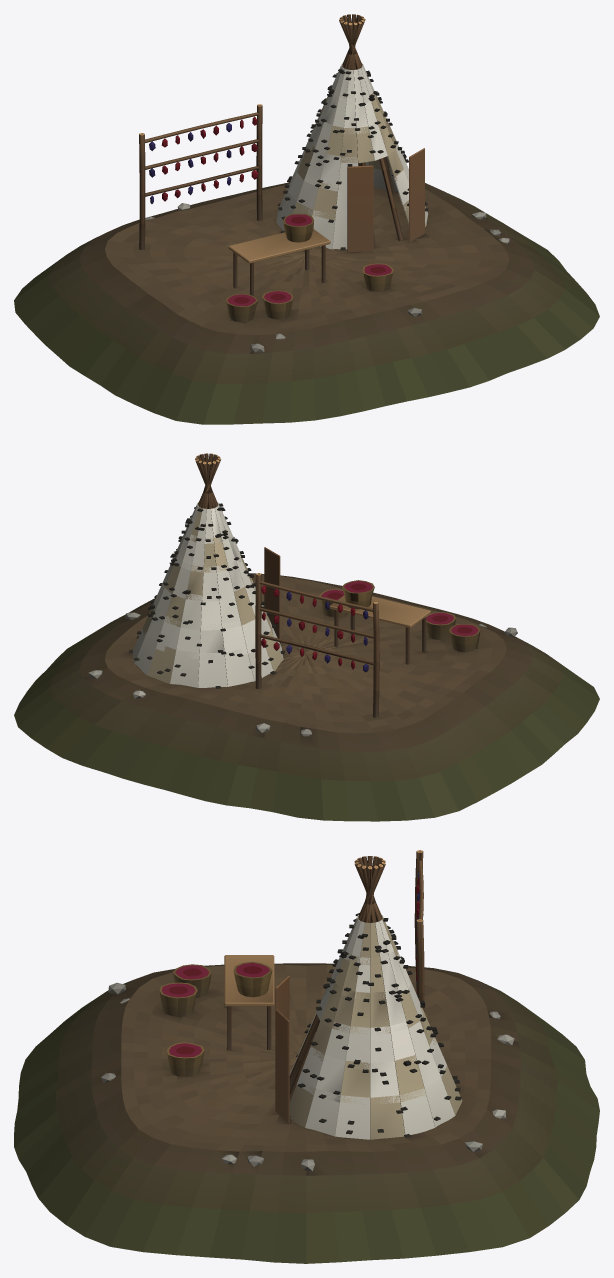
The model's file is toplayici.glb.
3 views of the same model, one above another, from view 1: azimuth 30°, elevation 25°; view 2: azimuth 150°, elevation 25°; view 3: azimuth 270°, elevation 25° (orthographic). The views are drawn at different scales.
Parts seen in each view (by area): view 1: stone-ground-001, wood-rack-002, cloth-hide-001, thatch-baskets-007, thatch-bark-004, thatch-bark-002, thatch-bark-003, plank-work-001, thatch-bark-001, thatch-bark-005, wood-poles-001, thatch-bark-006 (+1 smaller); view 2: stone-ground-001, thatch-bark-001, wood-rack-002, thatch-bark-002, thatch-bark-003, thatch-bark-004, thatch-baskets-007, thatch-bark-005, plank-work-001, thatch-bark-006, cloth-hide-001, wood-poles-001 (+1 smaller); view 3: stone-ground-001, thatch-bark-001, thatch-bark-002, thatch-bark-003, thatch-baskets-007, thatch-bark-004, thatch-bark-005, thatch-bark-006, cloth-hide-001, plank-work-001, wood-poles-001, wood-rack-002 (+1 smaller).
Boxes of the visible parts, x1=… form: stone-ground-001: x1=14, y1=182, x2=599, y2=424; wood-rack-002: x1=139, y1=104, x2=262, y2=249; cloth-hide-001: x1=347, y1=148, x2=424, y2=252; thatch-baskets-007: x1=225, y1=213, x2=393, y2=322; thatch-bark-004: x1=307, y1=111, x2=398, y2=163; thatch-bark-002: x1=284, y1=156, x2=408, y2=220; thatch-bark-003: x1=297, y1=133, x2=406, y2=191; plank-work-001: x1=228, y1=229, x2=330, y2=296; thatch-bark-001: x1=276, y1=163, x2=428, y2=250; thatch-bark-005: x1=316, y1=91, x2=387, y2=134; wood-poles-001: x1=339, y1=14, x2=403, y2=248; thatch-bark-006: x1=327, y1=63, x2=379, y2=106; stone-ground-001: x1=14, y1=573, x2=599, y2=821; thatch-bark-001: x1=129, y1=619, x2=284, y2=688; wood-rack-002: x1=255, y1=573, x2=379, y2=717; thatch-bark-002: x1=142, y1=600, x2=273, y2=659; thatch-bark-003: x1=150, y1=578, x2=263, y2=630; thatch-bark-004: x1=163, y1=549, x2=254, y2=601; thatch-baskets-007: x1=319, y1=580, x2=480, y2=652; thatch-bark-005: x1=171, y1=530, x2=244, y2=572; plank-work-001: x1=329, y1=595, x2=430, y2=664; thatch-bark-006: x1=181, y1=502, x2=231, y2=543; cloth-hide-001: x1=264, y1=547, x2=280, y2=638; wood-poles-001: x1=195, y1=453, x2=221, y2=508; stone-ground-001: x1=14, y1=963, x2=599, y2=1263; thatch-bark-001: x1=289, y1=1054, x2=462, y2=1139; thatch-bark-002: x1=296, y1=1023, x2=446, y2=1104; thatch-bark-003: x1=310, y1=1007, x2=437, y2=1072; thatch-baskets-007: x1=159, y1=961, x2=272, y2=1076; thatch-bark-004: x1=316, y1=977, x2=425, y2=1034; thatch-bark-005: x1=326, y1=946, x2=412, y2=999; thatch-bark-006: x1=337, y1=913, x2=398, y2=966; cloth-hide-001: x1=275, y1=975, x2=289, y2=1123; plank-work-001: x1=224, y1=955, x2=274, y2=1050; wood-poles-001: x1=289, y1=856, x2=385, y2=1102; wood-rack-002: x1=414, y1=850, x2=424, y2=1011.
Size of the model in its own units: 9.33 by 4.72 by 8.24.
